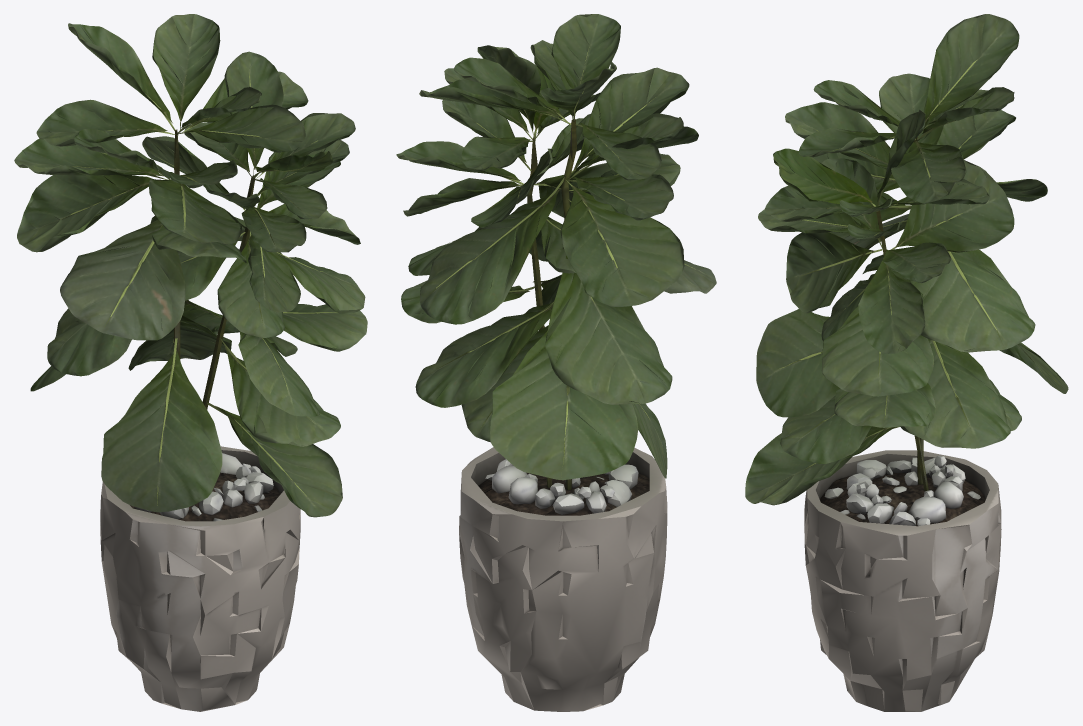
3 renders of one model, left to right at view 1: azimuth 30°, elevation 25°; view 2: azimuth 150°, elevation 25°; view 3: azimuth 270°, elevation 25°, orthographic. The views are drawn at different scales.
Parts seen in each view (by area): view 1: glass_001, solid_001, glass_003, solid_002, solid_004, solid_003, solid_006, glass_002; view 2: glass_001, solid_001, solid_002, solid_004, solid_003, solid_006, glass_003; view 3: glass_001, solid_001, solid_002, glass_002, solid_003, solid_004, solid_006, glass_003.
Part boxes in pixels (x1=…): glass_001: x1=14, y1=14, x2=367, y2=517; solid_001: x1=100, y1=446, x2=300, y2=711; glass_003: x1=60, y1=219, x2=185, y2=340; solid_002: x1=135, y1=453, x2=273, y2=521; solid_004: x1=52, y1=56, x2=337, y2=505; solid_003: x1=130, y1=472, x2=281, y2=521; solid_006: x1=174, y1=129, x2=255, y2=409; glass_002: x1=255, y1=151, x2=332, y2=171; glass_001: x1=396, y1=14, x2=698, y2=480; solid_001: x1=459, y1=447, x2=667, y2=711; solid_002: x1=485, y1=459, x2=638, y2=514; solid_004: x1=421, y1=47, x2=696, y2=475; solid_003: x1=478, y1=472, x2=649, y2=515; solid_006: x1=527, y1=119, x2=576, y2=490; glass_003: x1=664, y1=260, x2=716, y2=293; glass_001: x1=745, y1=14, x2=1068, y2=505; solid_001: x1=804, y1=450, x2=1001, y2=711; solid_002: x1=824, y1=456, x2=980, y2=525; glass_002: x1=773, y1=148, x2=872, y2=203; solid_003: x1=820, y1=472, x2=985, y2=526; solid_004: x1=777, y1=49, x2=1043, y2=483; solid_006: x1=876, y1=137, x2=928, y2=491; glass_003: x1=843, y1=214, x2=908, y2=249.
Bounding box in the file's own units: 0.7567 × 1.59 × 0.7327.
1 material, 1 textured.
